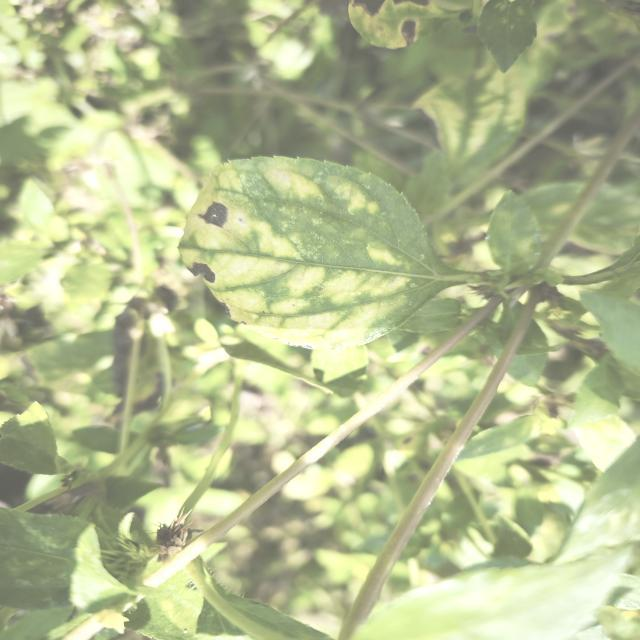Virus Kuning: (177, 156, 464, 352)
